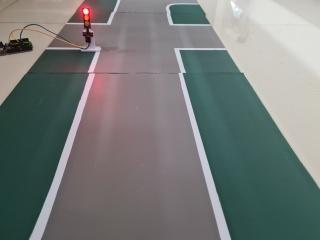red: (78, 3, 97, 38)
